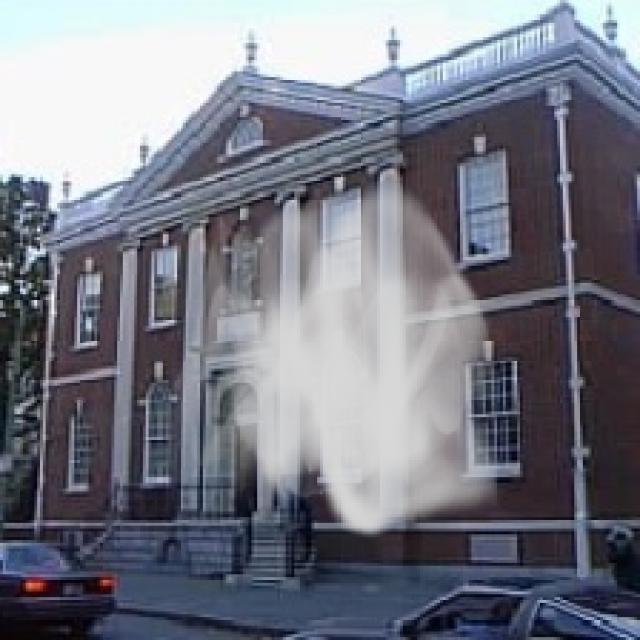Smoke: (163, 171, 508, 540)
